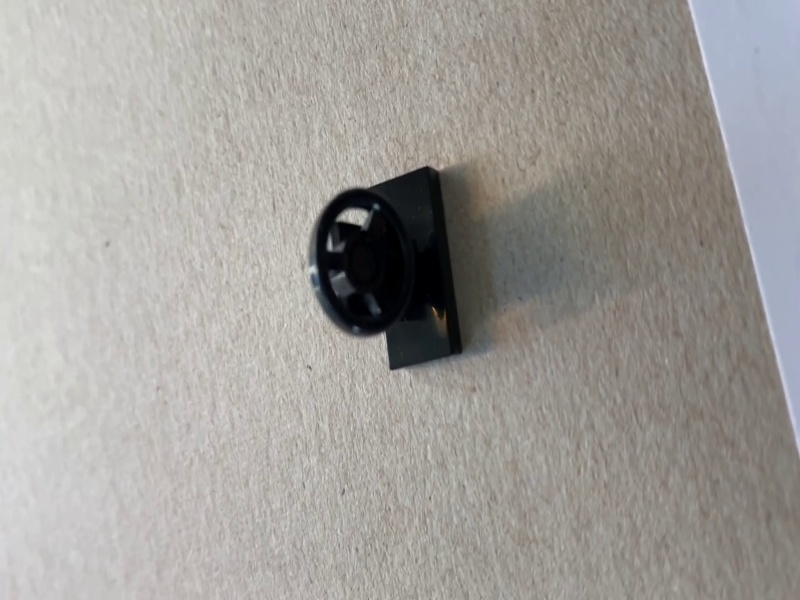steering wheel: (306, 163, 463, 371)
